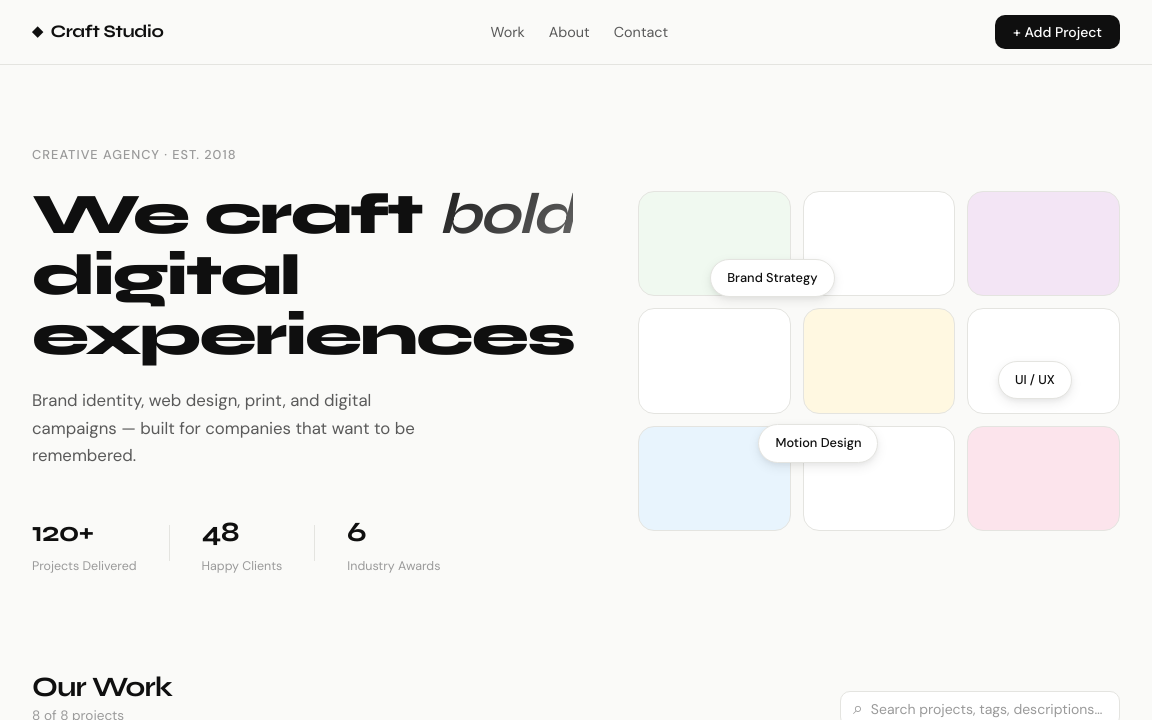
Test: App integration › opens and closes the Add Project modal
The width and height of the screenshot is (1152, 720).
Click the button "+ Add Project" at (1058, 32), box [995, 15, 1120, 49]
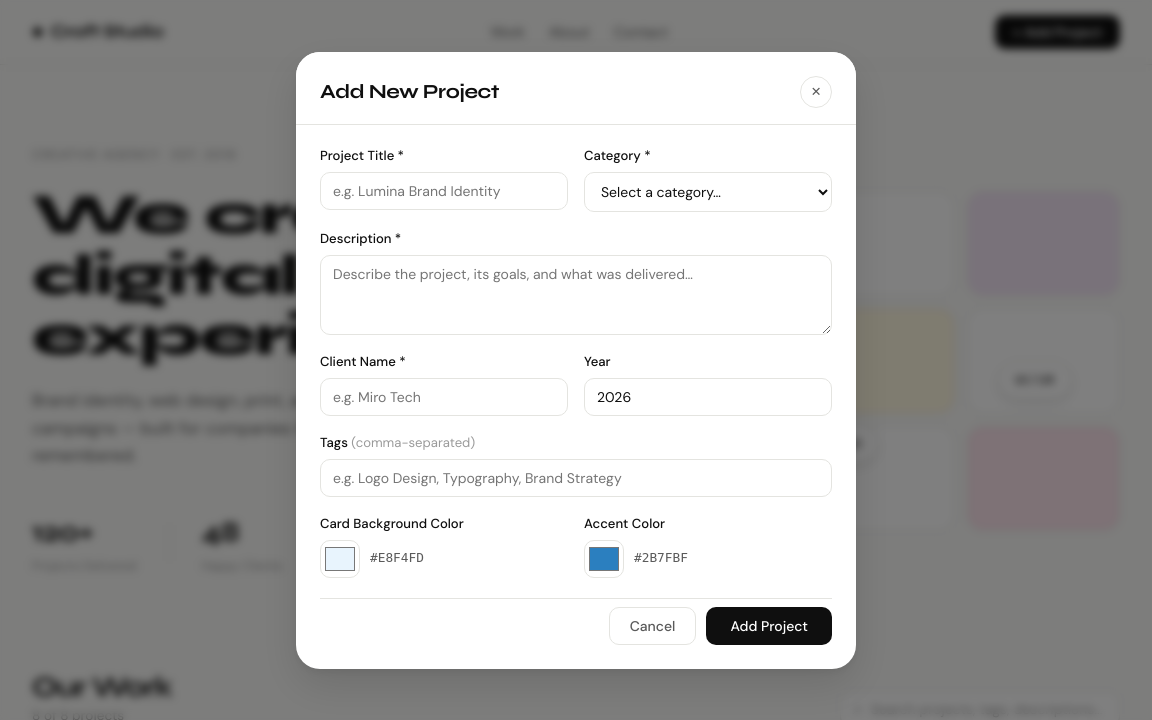
Result: the dialog is shown
Click the button named "close modal" at (816, 92), box [800, 76, 832, 108]
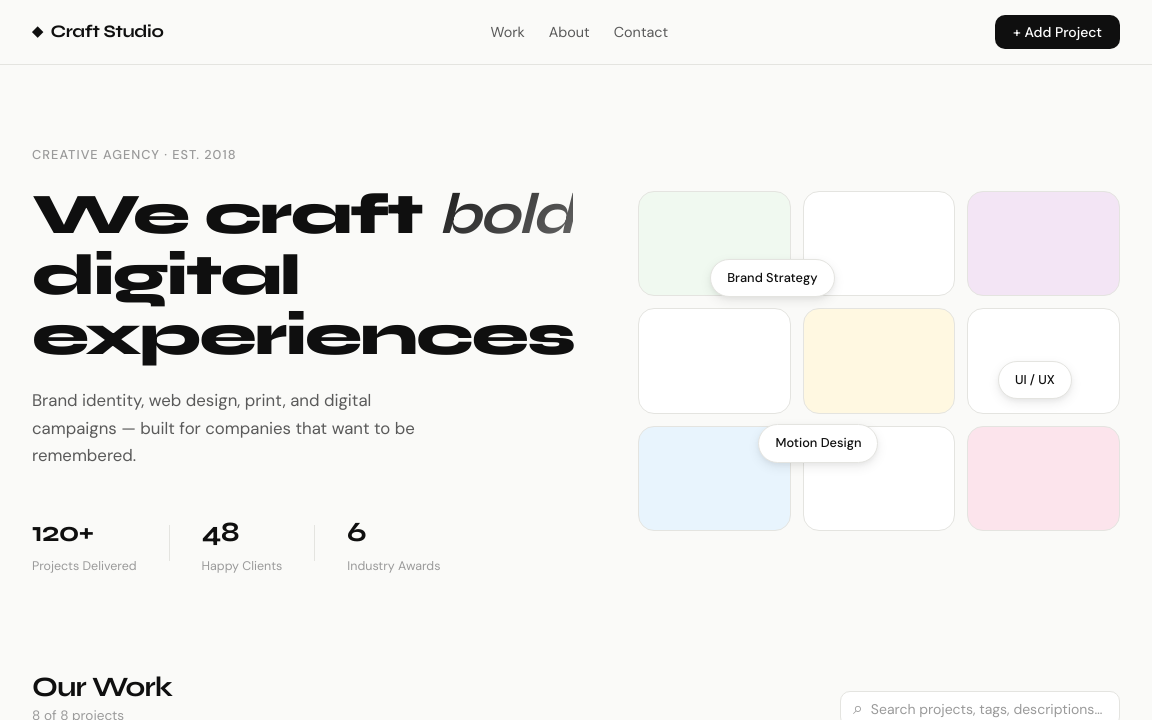
Result: the dialog is gone
